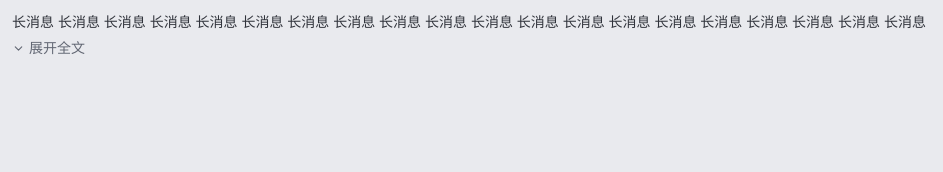
it: folds overflowing text, expands and folds it again without truncating the original
Click the button "展开全文": (48, 48) top-left (12, 38), bottom-right (85, 59)
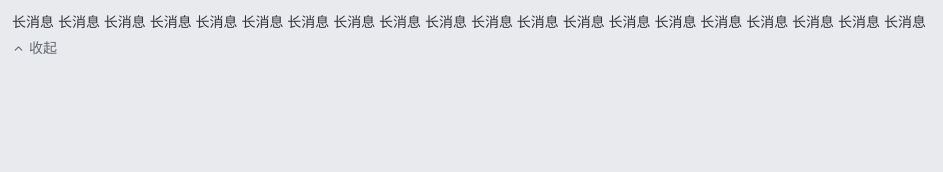
Expected: the button "收起" is expanded
Click the button "收起": (34, 48) top-left (12, 38), bottom-right (57, 59)
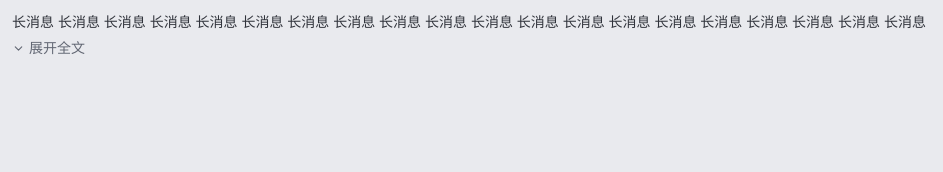
Expected: the button "展开全文" is collapsed, top-left (12, 38), bottom-right (85, 59)
